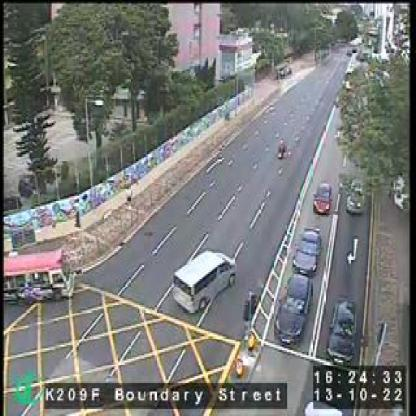Car: (170, 249, 236, 315), (275, 272, 314, 346), (325, 302, 358, 366), (294, 226, 322, 276), (344, 178, 366, 215), (314, 179, 334, 216)
Minibus: (2, 243, 72, 311)
